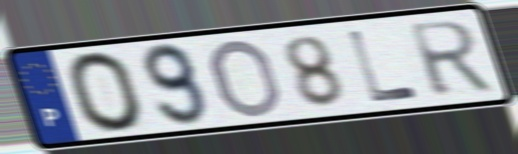8: (280, 34, 348, 109)
9: (138, 40, 214, 130)
L: (344, 28, 423, 105)
O: (63, 48, 149, 135), (208, 36, 286, 120)
R: (404, 18, 498, 100)
